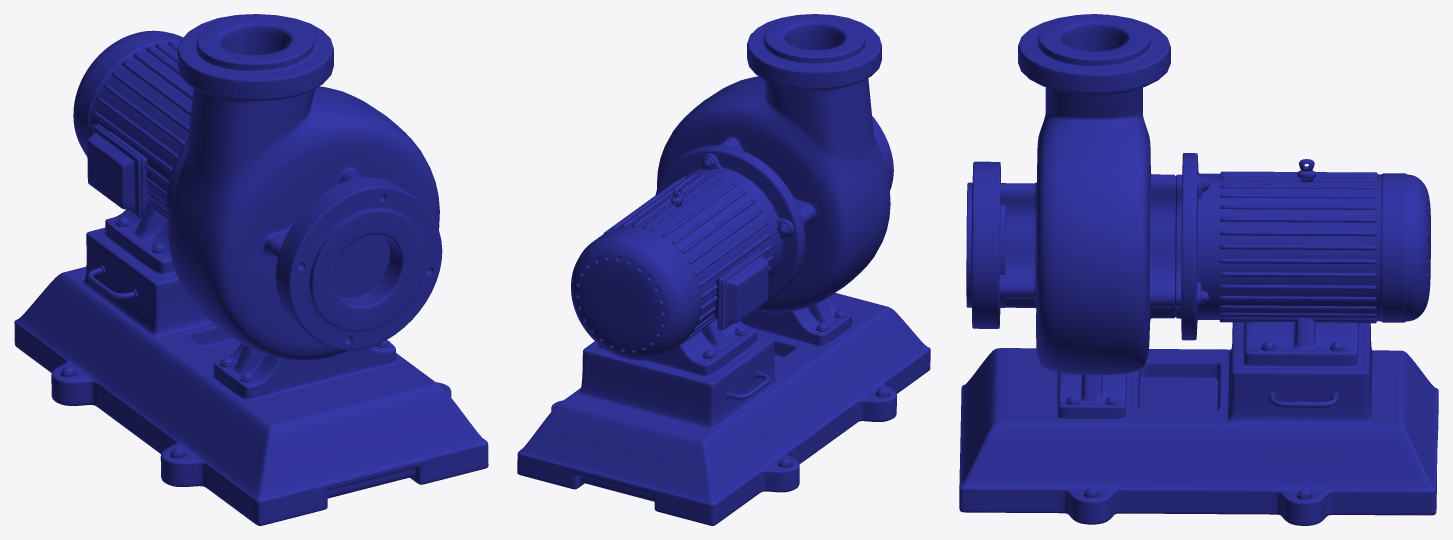
The model's file is 1216PUMP.glb.
3 views of the same model, side by side, from view 1: azimuth 30°, elevation 25°; view 2: azimuth 150°, elevation 25°; view 3: azimuth 270°, elevation 25° (orthographic). The views are drawn at different scales.
Visible parts, largest first — view 1: 16561_6-Inch_Dewatering_Pump_v1; view 2: 16561_6-Inch_Dewatering_Pump_v1; view 3: 16561_6-Inch_Dewatering_Pump_v1.
Boxes of the visible parts, x1,y1,x2,y2 form: 16561_6-Inch_Dewatering_Pump_v1: (14,14,488,525); 16561_6-Inch_Dewatering_Pump_v1: (517,14,930,525); 16561_6-Inch_Dewatering_Pump_v1: (959,14,1438,525).
Bounding box in the file's own units: 0.3489 × 0.4942 × 0.529.
